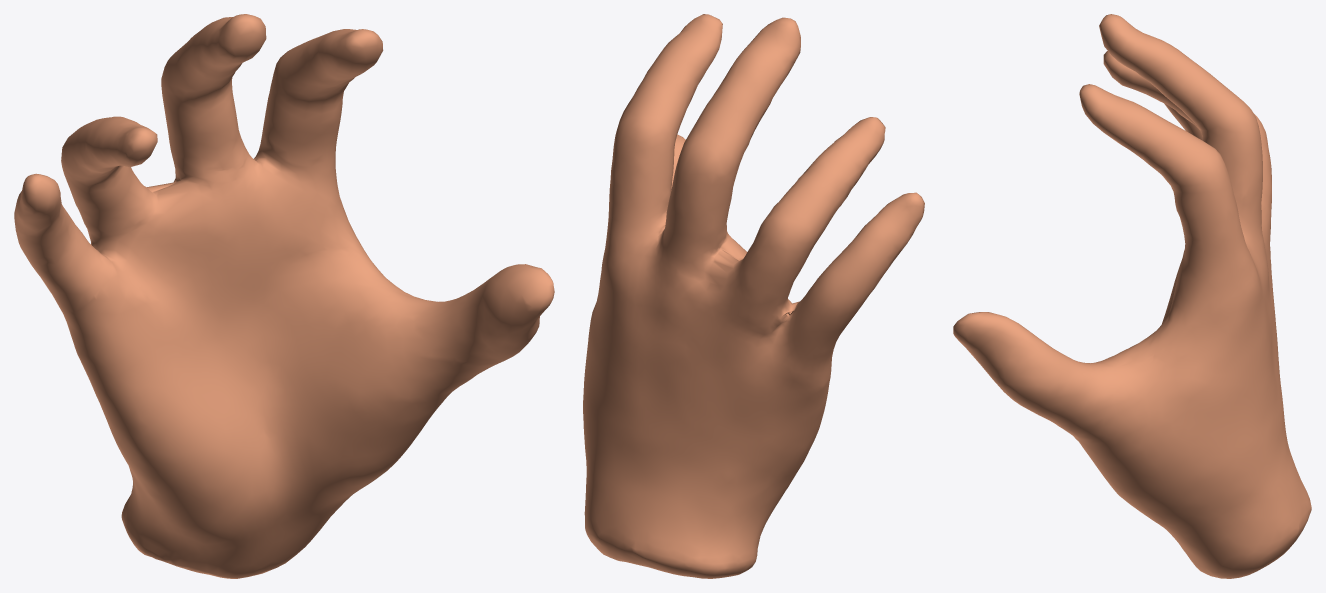
The model's file is hand_render.fbx.
The picture shows the model from 3 angles, left to right: view 1: azimuth 30°, elevation 25°; view 2: azimuth 150°, elevation 25°; view 3: azimuth 270°, elevation 25°; orthographic projection. The views are drawn at different scales.
Visible parts, largest first — view 1: rand_0_skin; view 2: rand_0_skin; view 3: rand_0_skin.
Boxes of the visible parts, <box> form: rand_0_skin: <box>14,14,554,578</box>; rand_0_skin: <box>583,14,924,578</box>; rand_0_skin: <box>953,14,1311,578</box>.
Bounding box in the file's own units: 80.23 × 110 × 68.34.
